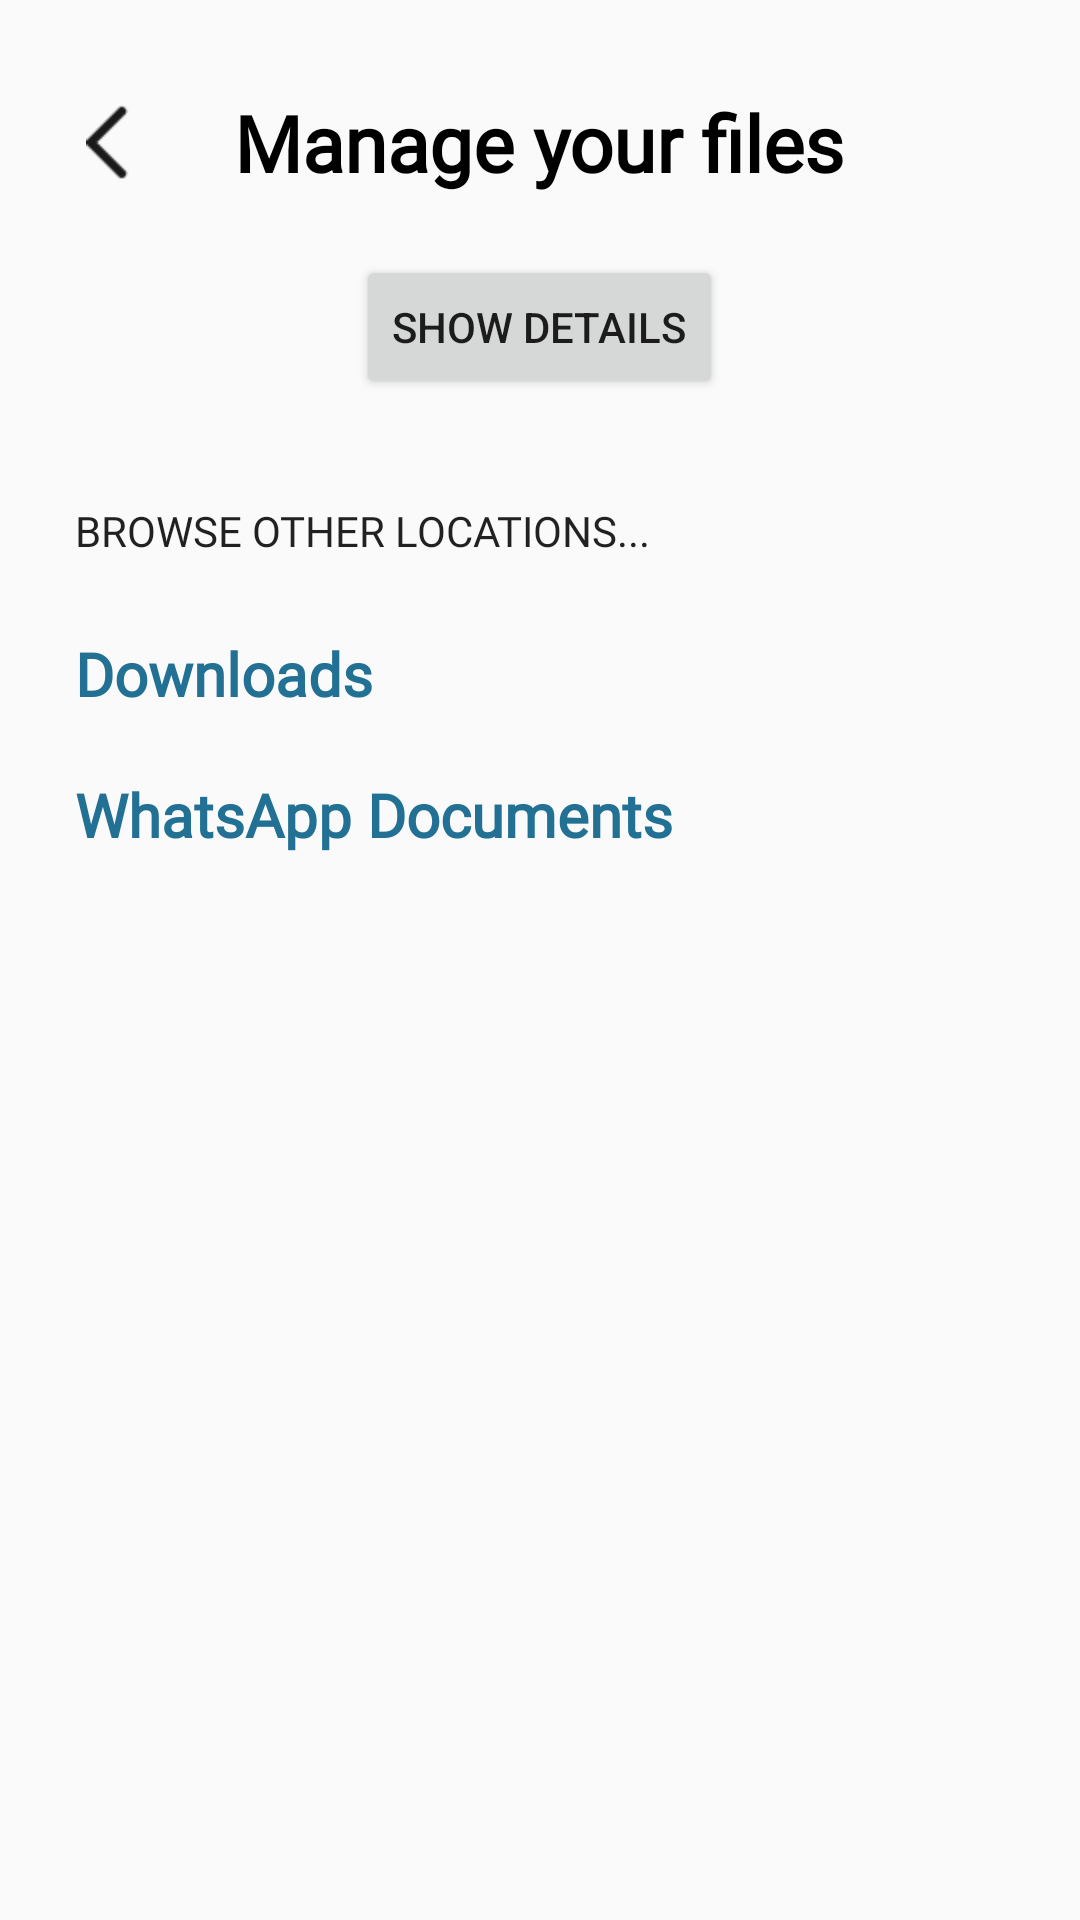

Where to tap for icons on this 1080*1920 app screen, as (x,y):
arrow left: (107,142)
